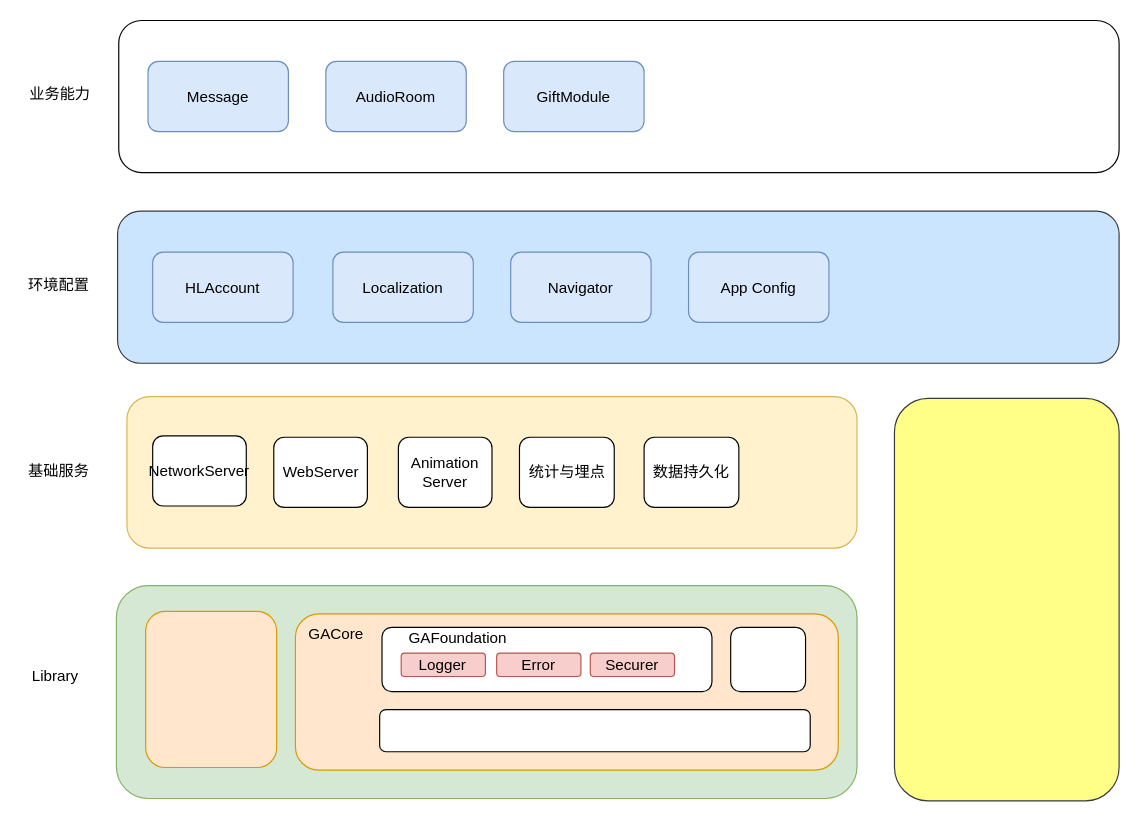
Some shapes in this 1140 by 821 pixel diagram are drawn without their labels. Each missing label, with the box of its shape:
Extension: (378, 708, 810, 752)
GAUI: (729, 626, 806, 692)
GPBModels: (893, 397, 1119, 801)
开源库: (144, 610, 277, 768)
